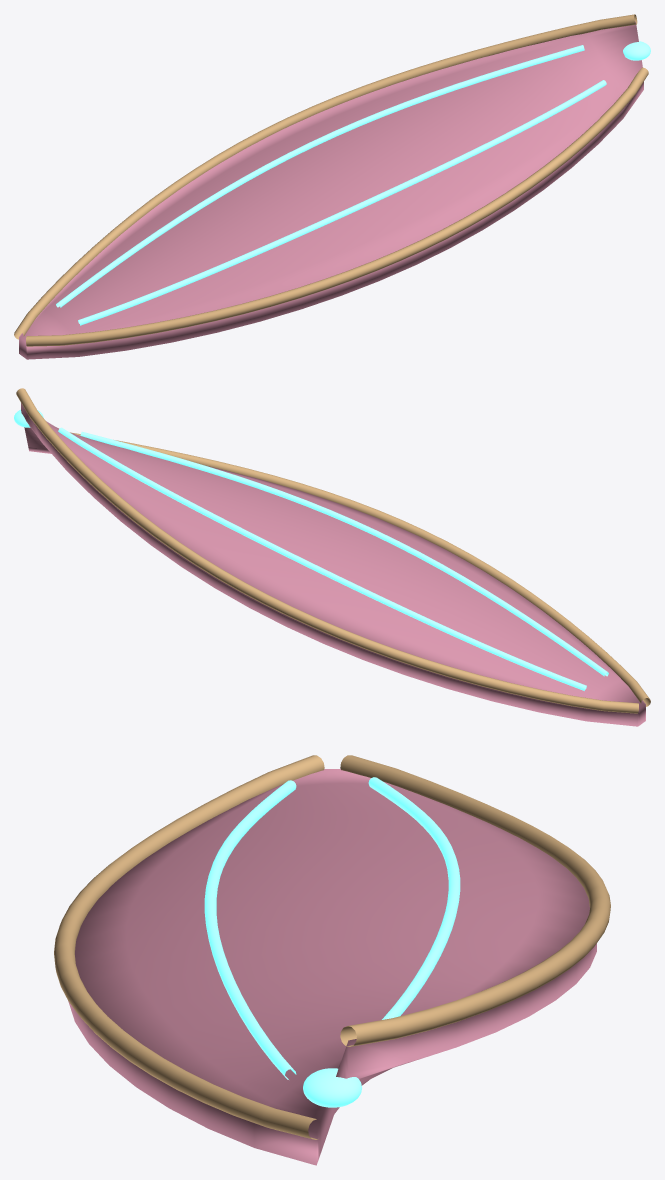
The model's file is outer.glb.
3 renders of one model, top to bottom at view 1: azimuth 30°, elevation 25°; view 2: azimuth 150°, elevation 25°; view 3: azimuth 270°, elevation 25°, orthographic. The views are drawn at different scales.
Parts seen in each view (by area): view 1: OuterBlade_DetailedPrototype; view 2: OuterBlade_DetailedPrototype; view 3: OuterBlade_DetailedPrototype.
Boxes of the visible parts, x1,y1,x2,y2 form: OuterBlade_DetailedPrototype: (14, 14, 650, 359); OuterBlade_DetailedPrototype: (14, 388, 650, 726); OuterBlade_DetailedPrototype: (54, 755, 610, 1165).
Bounding box in the file's own units: 3.43 × 0.98 × 1.31.
